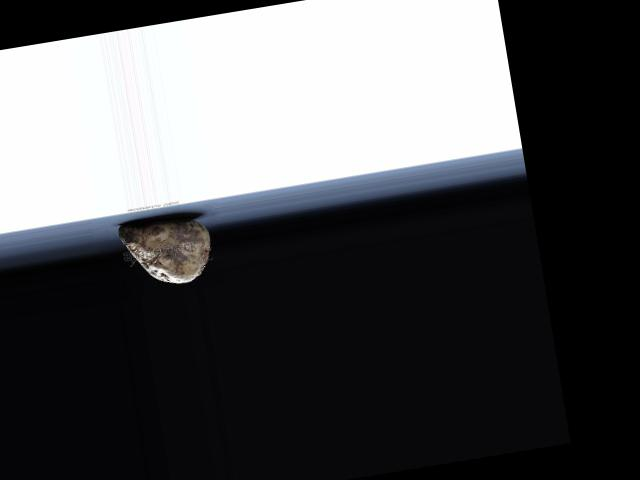beet: (119, 211, 217, 290)
